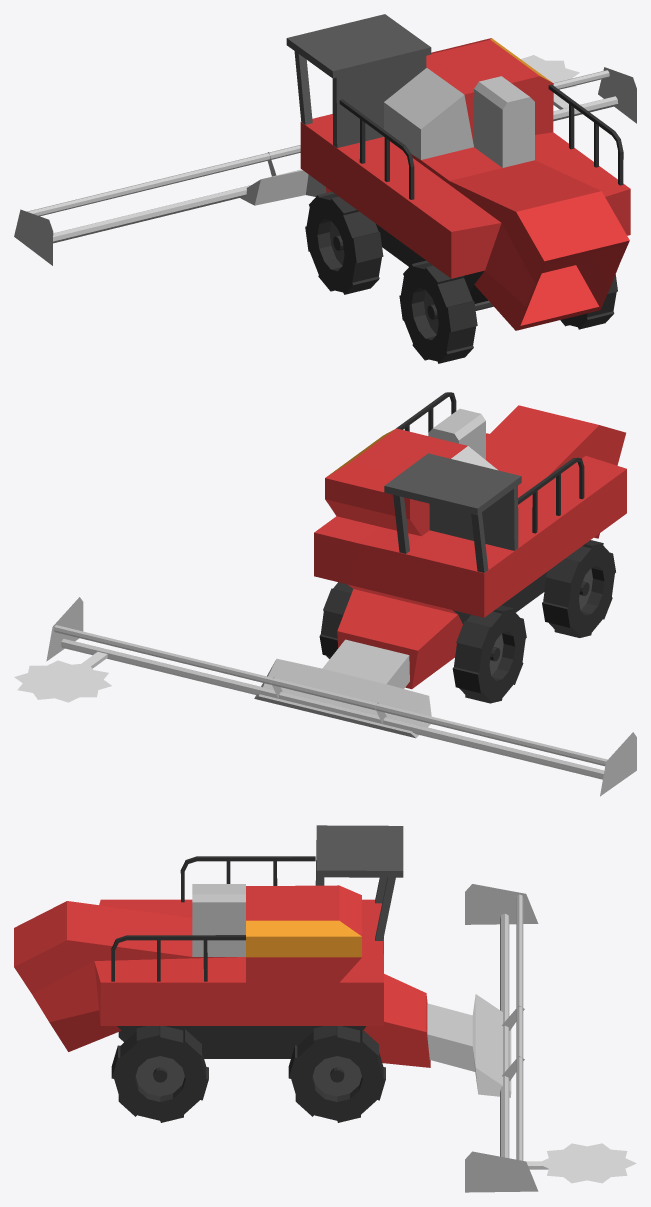
The model's file is harvester.fbx.
3 views of the same model, one above another, from view 1: azimuth 30°, elevation 25°; view 2: azimuth 150°, elevation 25°; view 3: azimuth 270°, elevation 25° (orthographic). The views are drawn at different scales.
Visible parts, largest first — view 1: body, anker, wheels1, wheels2, saw; view 2: body, anker, wheels2, wheels1, saw; view 3: body, anker, wheels1, wheels2, saw.
Part boxes in pixels (<box>): body: <box>240,14,630,330</box>; anker: <box>14,67,636,265</box>; wheels1: <box>399,260,617,363</box>; wheels2: <box>305,191,383,294</box>; saw: <box>521,55,579,96</box>; body: <box>254,392,626,738</box>; anker: <box>46,597,636,796</box>; wheels2: <box>319,582,526,703</box>; wheels1: <box>542,540,615,637</box>; saw: <box>14,660,111,702</box>; body: <box>14,825,511,1097</box>; anker: <box>465,884,538,1192</box>; wheels1: <box>111,1026,208,1122</box>; wheels2: <box>288,1026,385,1122</box>; saw: <box>537,1143,636,1183</box>.
Size of the model in its own units: 40.05 by 15.13 by 39.39.
